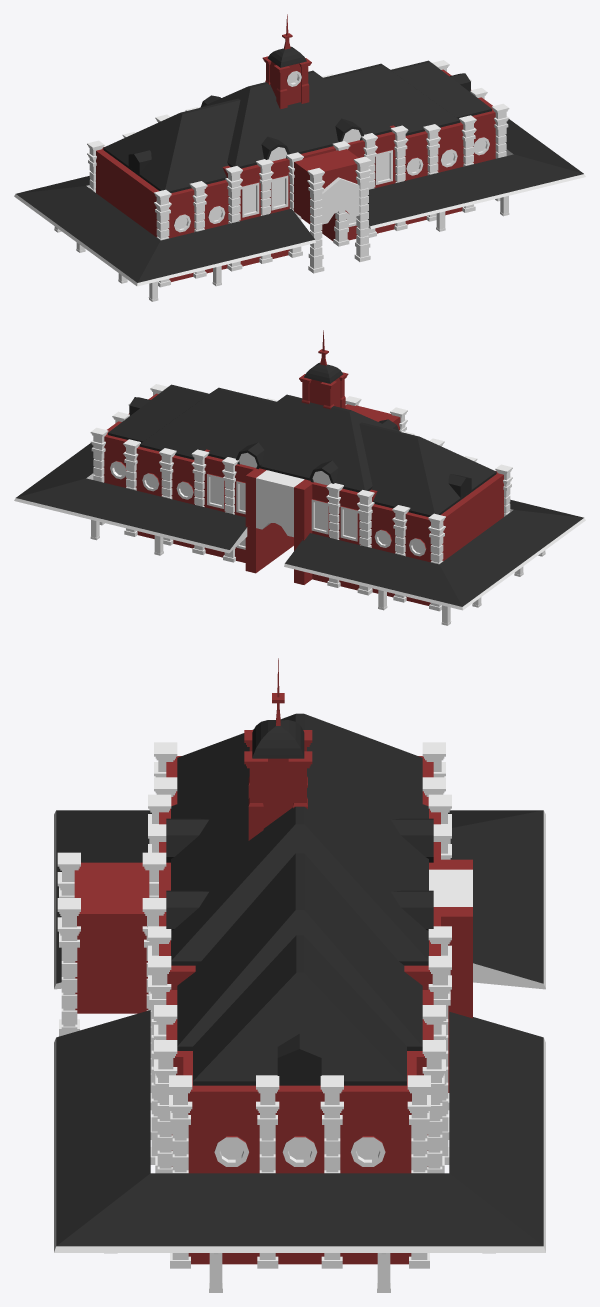
File: Hsinchu.fbx
3 views of the same model, one above another, from view 1: azimuth 30°, elevation 25°; view 2: azimuth 150°, elevation 25°; view 3: azimuth 270°, elevation 25° (orthographic). The views are drawn at different scales.
Parts seen in each view (by area): view 1: Cube; view 2: Cube; view 3: Cube.
Part boxes in pixels (bbox=[...]): Cube: bbox=[14, 14, 585, 301]; Cube: bbox=[14, 330, 585, 625]; Cube: bbox=[54, 658, 545, 1292].
Bounding box in the file's own units: 2116 × 957 × 1005.
